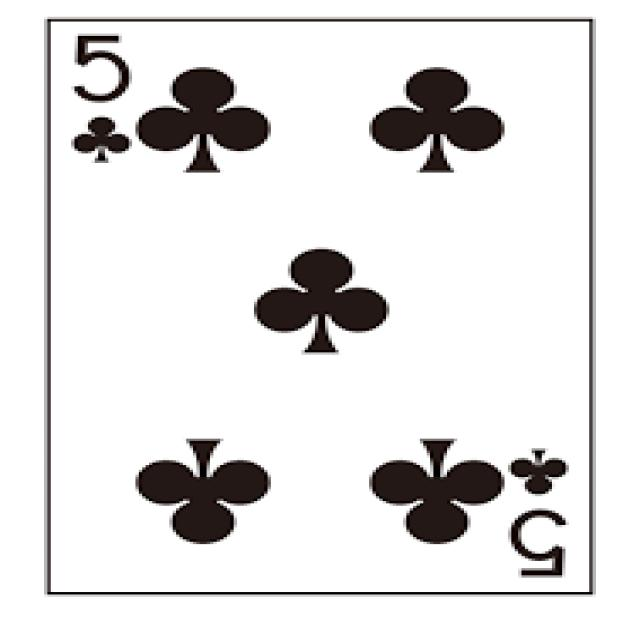C5: (38, 18, 591, 595)
